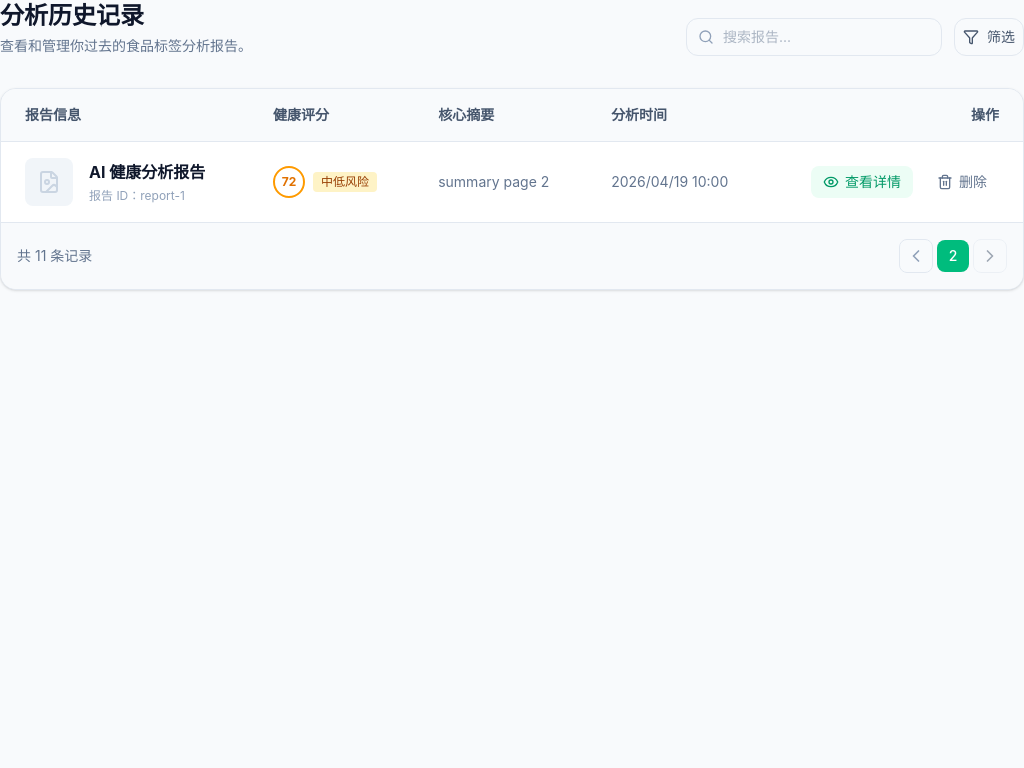
Test: History › reloads the current page after deletion and accepts the server-corrected page number
Expected: the text "summary page 2" is shown, [438, 172, 563, 192]
Click the button "删除" at (962, 182), box [925, 166, 999, 198]
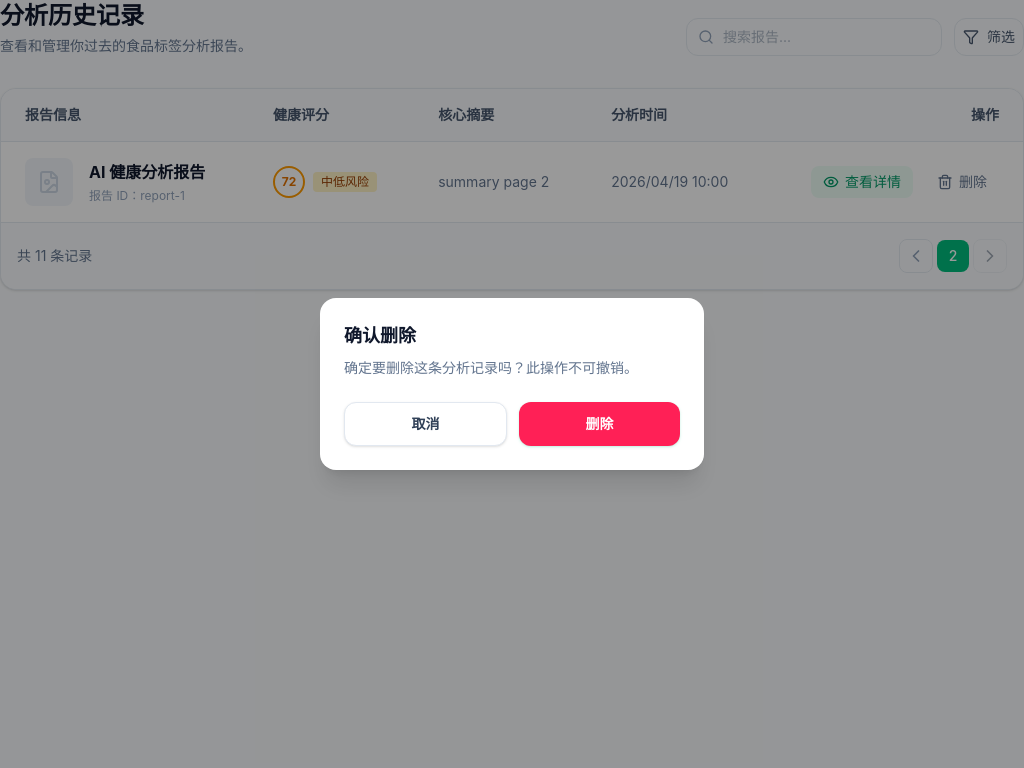
Click the button "删除" at (600, 424), box [519, 402, 680, 446]
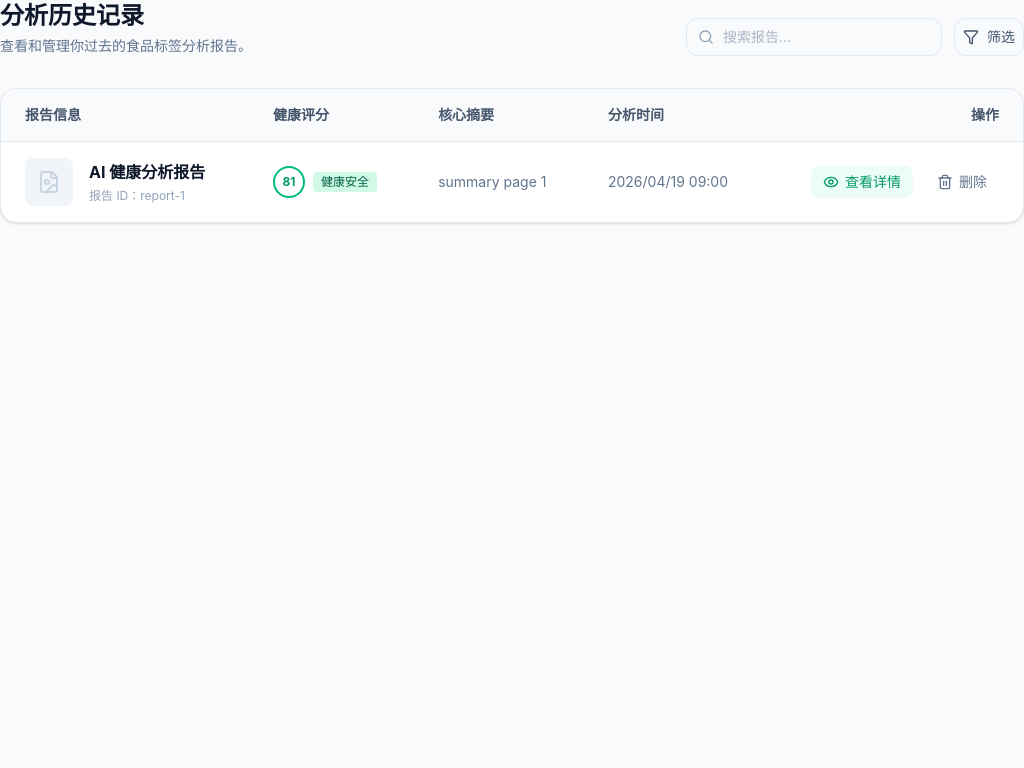
Now the text "summary page 1" is shown, box [438, 172, 560, 192]
Now the text "summary page 2" is gone
